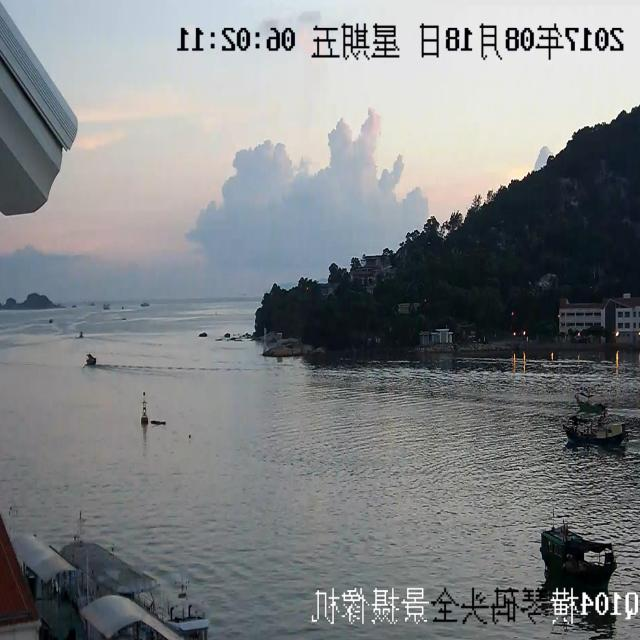buoy: (130, 394, 154, 436)
fishing boat: (542, 502, 625, 596), (551, 366, 626, 462), (74, 345, 102, 368)
